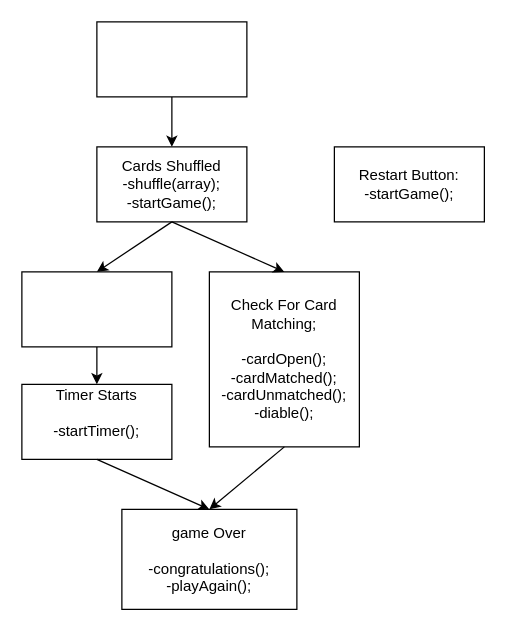
This 506x631 diagram has some shape labels left out. Each missing label, with the centre of its shape:
"Move Counter -moveCounter();" belongs at point (96, 309).
"User - Load Game" belongs at point (171, 59).
